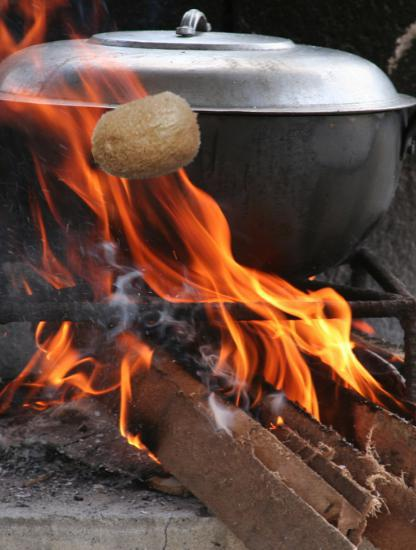Kiwi: (90, 82, 205, 197)
